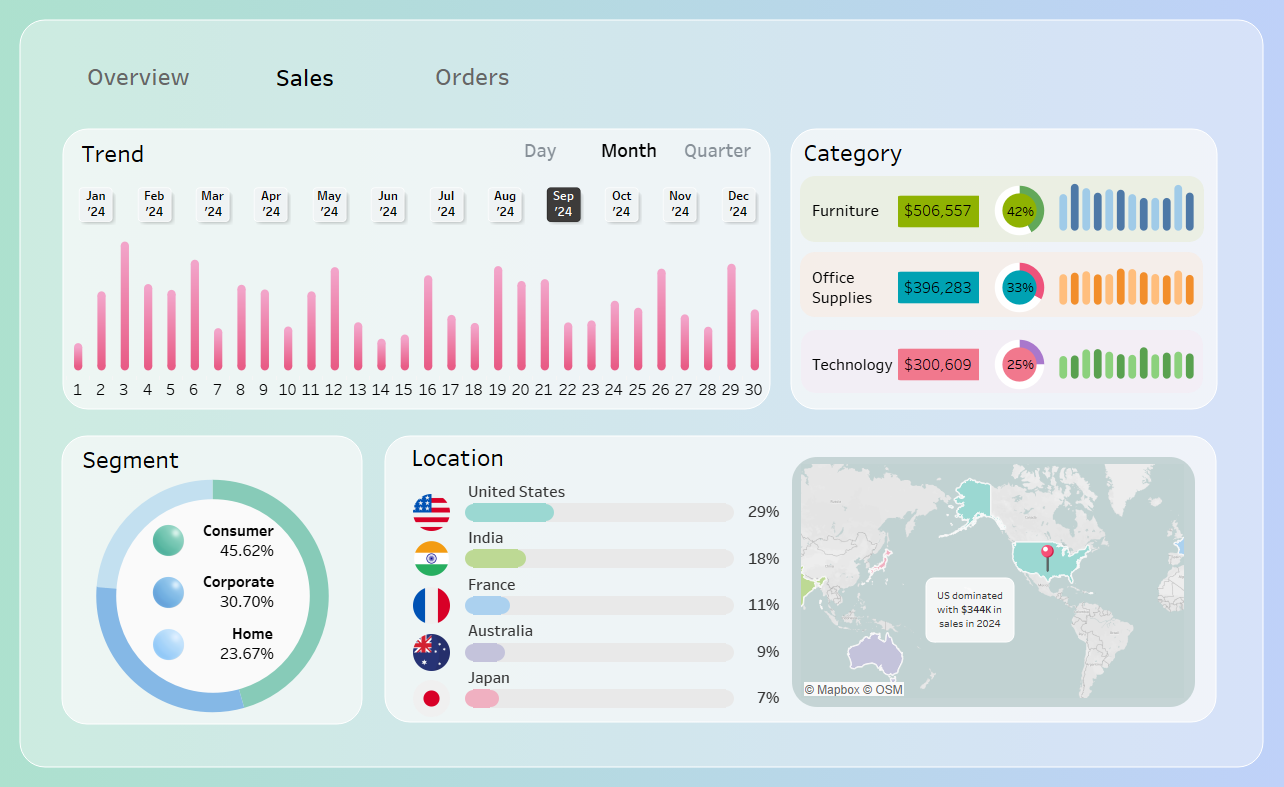

What the dashboard file says about the page in this screenshot:
{"tool":"tableau","page":{"name":"Sales","canvas":[1300,800],"ordinal":2},"visuals":[{"type":"image","param":"Image/2 Sales.png","box":[0,0,1300,800]},{"type":"worksheet","title":"S Background","mark":"Automatic","box":[0,0,1300,800]},{"type":"dashboard-object","box":[65,54,164,61]},{"type":"text","box":[229,54,170,61]},{"type":"dashboard-object","box":[399,54,164,61]},{"type":"worksheet","title":"S Time Period","mark":"Automatic","cols":["Display Time Period (copy)_617556165310726145"],"box":[505,141,267,34]},{"type":"text","box":[809,145,129,30]},{"type":"text","box":[87,146,100,30]},{"type":"worksheet","title":"S Period Range","mark":"Automatic","rows":["Calculation_1202742641903165445","Calculation_1202742641903181832"],"cols":["Calculation_1202742641902002178","Calculation_1202742641901809665"],"box":[76,176,701,73]},{"type":"worksheet","title":"S Category Pie","mark":"Automatic","rows":["Category"],"cols":["Calculation_1161365820947525638","Calculation_1161365820947533832","Calculation_1161365820950298639"],"box":[815,180,254,231]},{"type":"worksheet","title":"S Category Bar","mark":"Automatic","rows":["Category"],"cols":["Order Date"],"box":[1066,188,138,222]},{"type":"worksheet","title":"S Trend","mark":"Line","cols":["Calculation_1161365820939182080"],"box":[75,243,700,166]},{"type":"text","box":[417,450,129,30]},{"type":"text","box":[88,452,129,30]},{"type":"worksheet","title":"S Map","mark":"Multipolygon","box":[810,472,383,234]},{"type":"worksheet","title":"S Donut Chart","mark":"Pie","cols":["Calculation_1216253441733005313","Calculation_1216253441733013507"],"box":[70,474,303,260]},{"type":"worksheet","title":"S Location Values","mark":"Automatic","rows":["Country"],"box":[473,487,320,232]},{"type":"worksheet","title":"S Location Bar","mark":"Automatic","rows":["Country"],"cols":["Calculation_1216253441740099594"],"box":[166,497,590,233]},{"type":"worksheet","title":"S Donut Legend","mark":"Shape","rows":["Segment"],"box":[69,523,217,155]}]}

Visuals, with their boxes in screenshot pixels (x1, y1, x2, y2), scaled from the page's 1300x800 canvas onto the 1284x787 screenshot:
image: bbox(0, 0, 1283, 786)
"S Background" worksheet: bbox(0, 0, 1283, 786)
dashboard-object: bbox(64, 53, 226, 113)
text: bbox(226, 53, 394, 113)
dashboard-object: bbox(394, 53, 556, 113)
"S Time Period" worksheet: bbox(499, 139, 762, 172)
text: bbox(799, 143, 926, 172)
text: bbox(86, 144, 185, 173)
"S Period Range" worksheet: bbox(75, 173, 767, 245)
"S Category Pie" worksheet: bbox(805, 177, 1056, 404)
"S Category Bar" worksheet: bbox(1053, 185, 1189, 403)
"S Trend" worksheet (Line marks): bbox(74, 239, 765, 402)
text: bbox(412, 443, 539, 472)
text: bbox(87, 445, 214, 474)
"S Map" worksheet (Multipolygon marks): bbox(800, 464, 1178, 695)
"S Donut Chart" worksheet (Pie marks): bbox(69, 466, 368, 722)
"S Location Values" worksheet: bbox(467, 479, 783, 707)
"S Location Bar" worksheet: bbox(164, 489, 747, 718)
"S Donut Legend" worksheet (Shape marks): bbox(68, 515, 282, 667)
